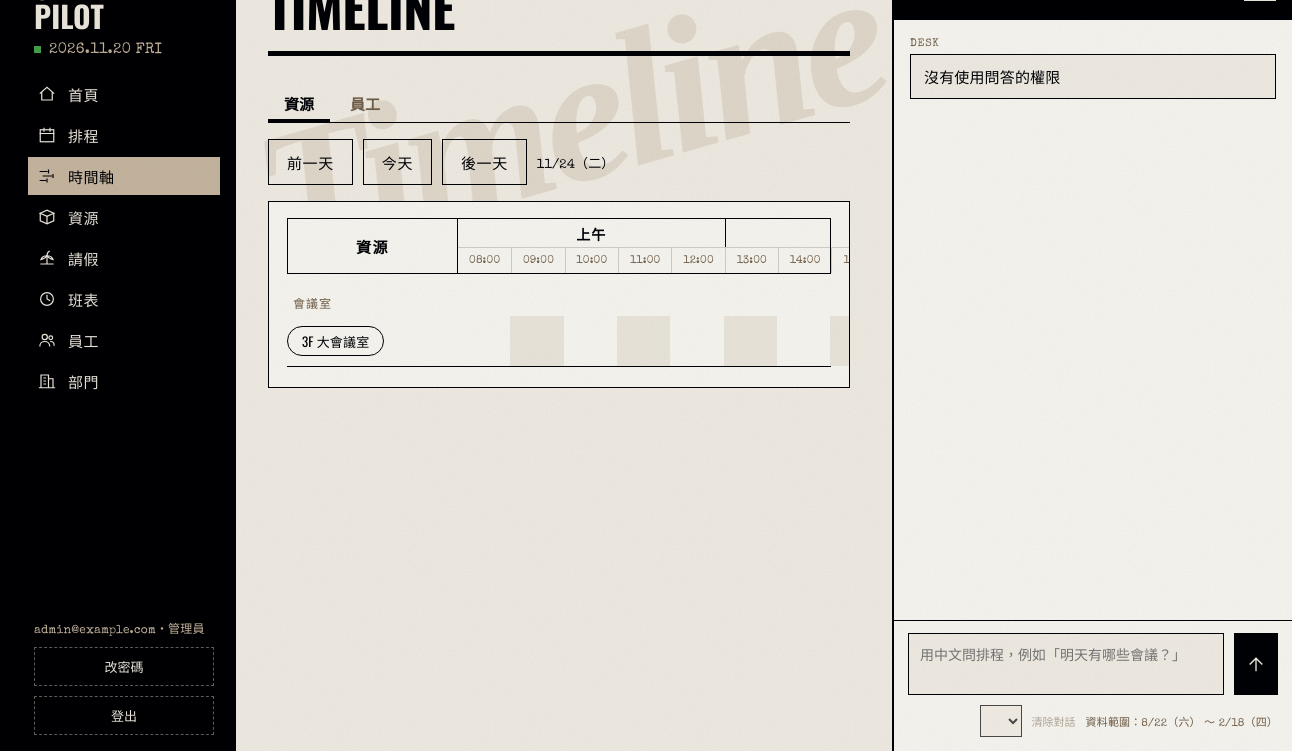
Test case: testViewTabsSwitchBetweenResourcesAndEmployees
The image size is (1292, 751).
Expected: the text "3F 大會議室" is shown, [287,326,384,356]
Click the tab "員工" at {"x": 365, "y": 103}, box [334,84,396,122]
(page scrolled)
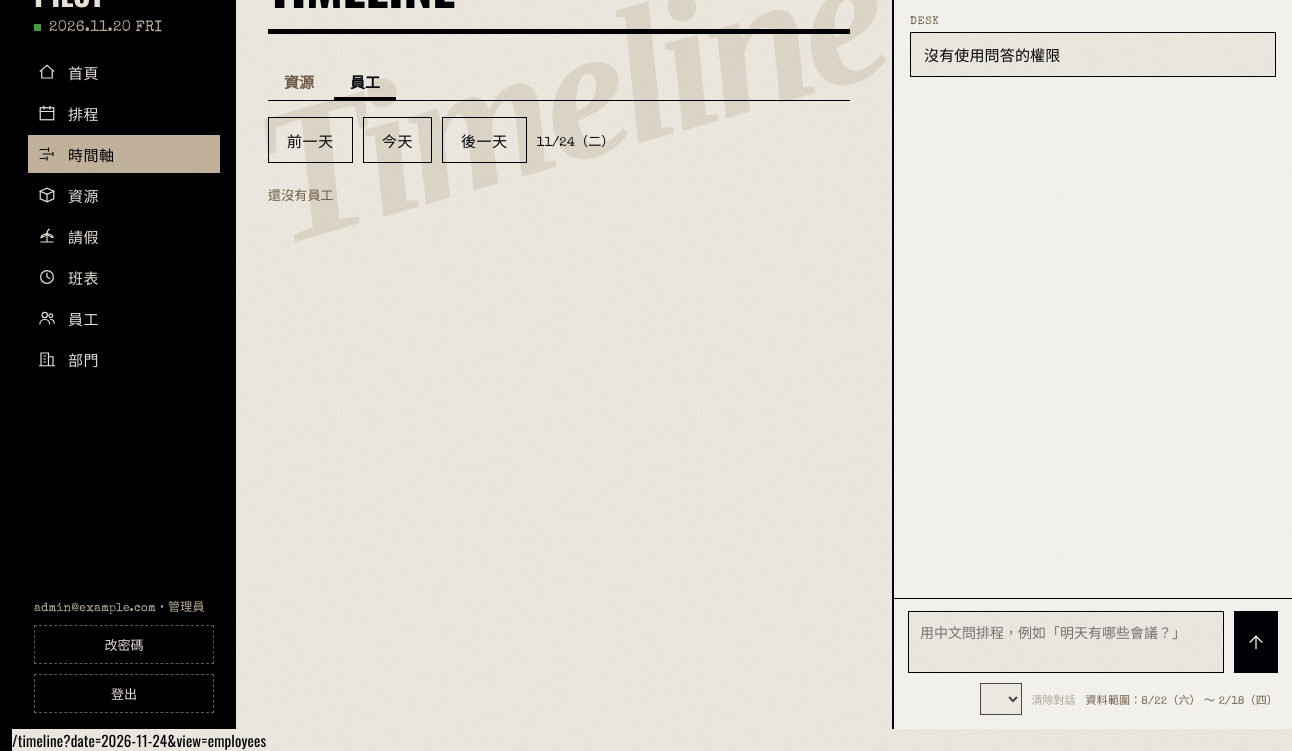
Expected: the text with test id "location" shows "date=2026-11-24", [63,729,266,750]
Now the text with test id "location" shows "view=employees", box [63,729,266,750]
